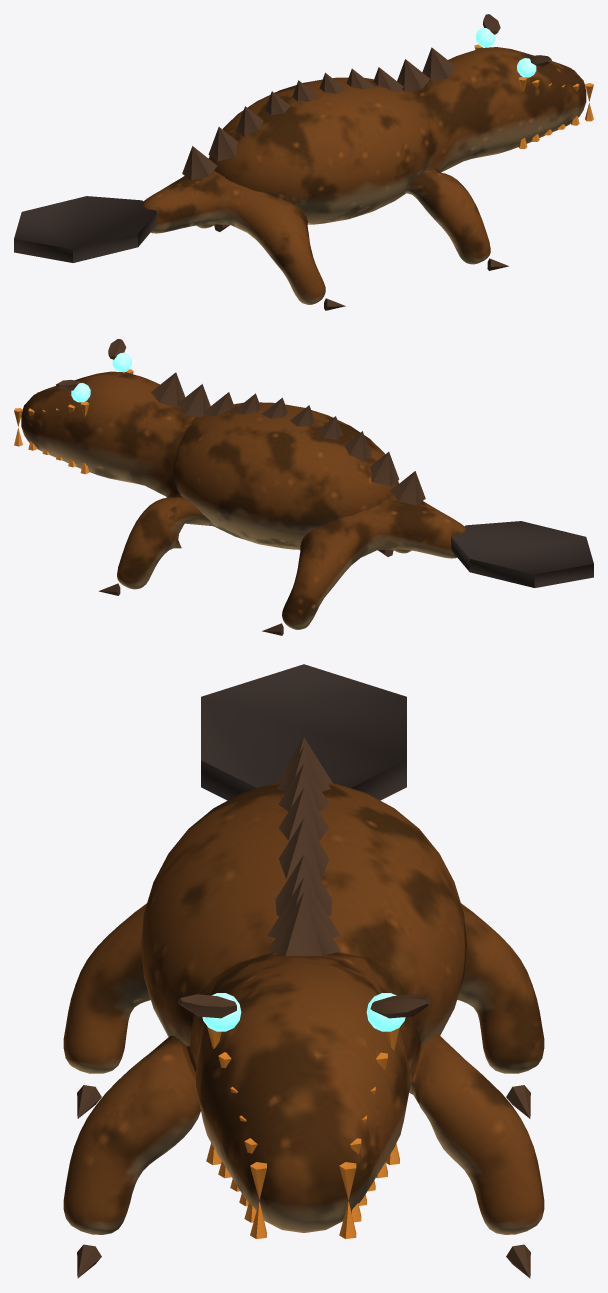
File: afanc.glb
3 views of the same model, one above another, from view 1: azimuth 30°, elevation 25°; view 2: azimuth 150°, elevation 25°; view 3: azimuth 270°, elevation 25° (orthographic). The views are drawn at different scales.
Parts seen in each view (by area): view 1: afanc.001; view 2: afanc.001; view 3: afanc.001.
Part boxes in pixels (x1,y1,x2,y2): afanc.001: (14, 14, 593, 310); afanc.001: (14, 339, 593, 635); afanc.001: (63, 664, 544, 1278).
Size of the model in its own units: 3.06 by 0.951 by 1.12.
Materials: 5 (1 with a texture image).
